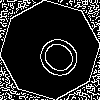O: (25, 25, 86, 84)
